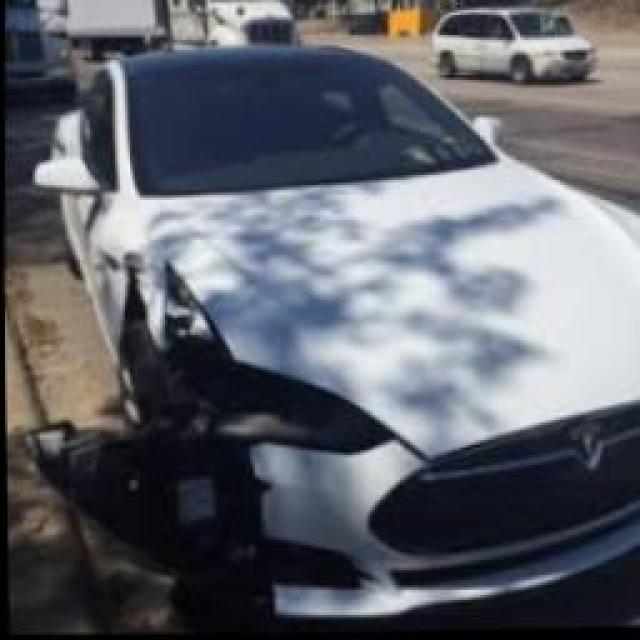Bumper: (30, 418, 368, 610)
Light: (168, 264, 404, 459)
